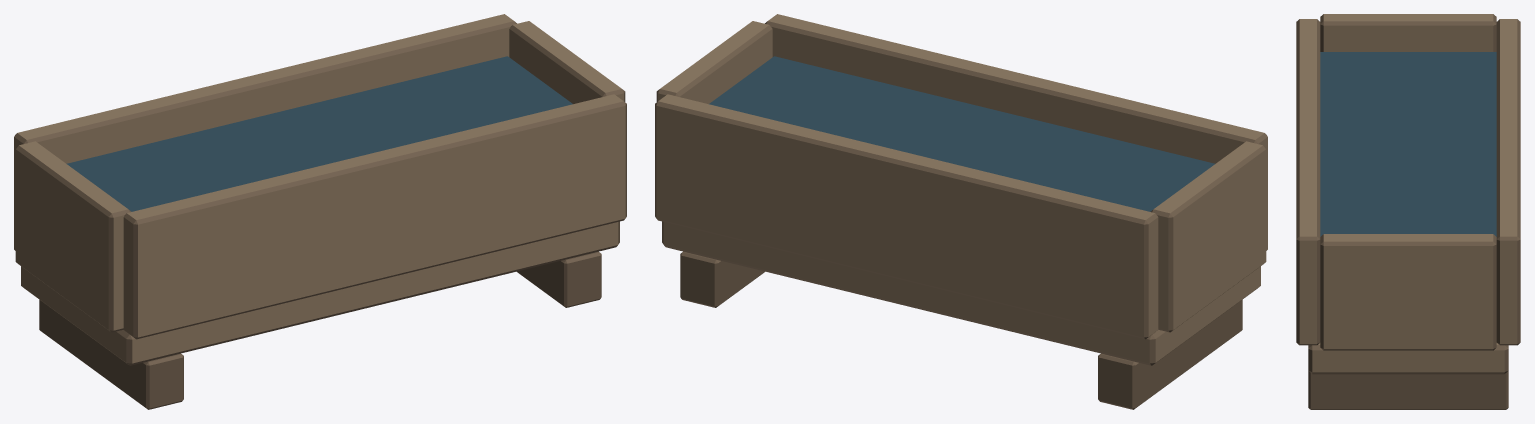
Rendered from trough.glb.
3 renders of one model, left to right at view 1: azimuth 30°, elevation 25°; view 2: azimuth 150°, elevation 25°; view 3: azimuth 270°, elevation 25°, orthographic. The views are drawn at different scales.
Parts seen in each view (by area): view 1: Trough; view 2: Trough; view 3: Trough.
Part boxes in pixels (bbox=[...]): Trough: bbox=[14, 14, 626, 409]; Trough: bbox=[655, 14, 1267, 409]; Trough: bbox=[1296, 14, 1520, 409].
Size of the model in its own units: 1.36 by 0.5 by 0.56.
